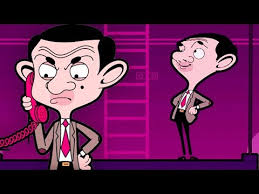mrbean: (14, 24, 130, 169), (168, 33, 238, 161)
